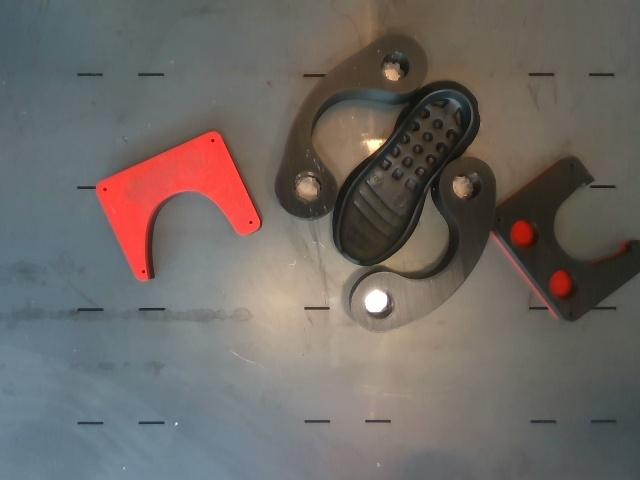shoes: (339, 91, 471, 264)
